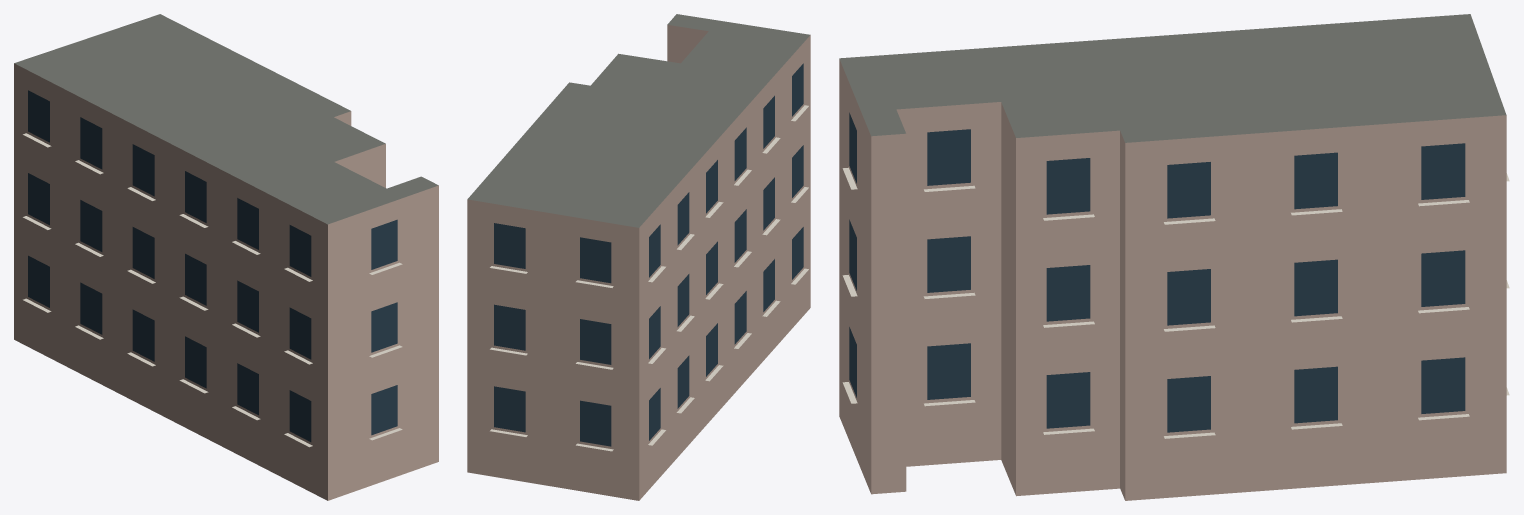
The picture shows the model from 3 angles, left to right: view 1: azimuth 30°, elevation 25°; view 2: azimuth 150°, elevation 25°; view 3: azimuth 270°, elevation 25°; orthographic projection. The views are drawn at different scales.
Parts seen in each view (by area): view 1: Footprint 0, Inferred window bays, Window sills; view 2: Footprint 0, Inferred window bays, Window sills; view 3: Footprint 0, Inferred window bays, Window sills.
Boxes of the visible parts, bbox=[...] form: Footprint 0: bbox=[14, 14, 438, 500]; Inferred window bays: bbox=[28, 90, 397, 441]; Window sills: bbox=[23, 133, 402, 447]; Footprint 0: bbox=[467, 14, 810, 500]; Inferred window bays: bbox=[494, 63, 803, 446]; Window sills: bbox=[490, 105, 808, 451]; Footprint 0: bbox=[839, 14, 1506, 500]; Inferred window bays: bbox=[849, 112, 1465, 432]; Window sills: bbox=[842, 167, 1509, 438].
Size of the model in its own units: 8.67 by 11.03 by 18.71.
